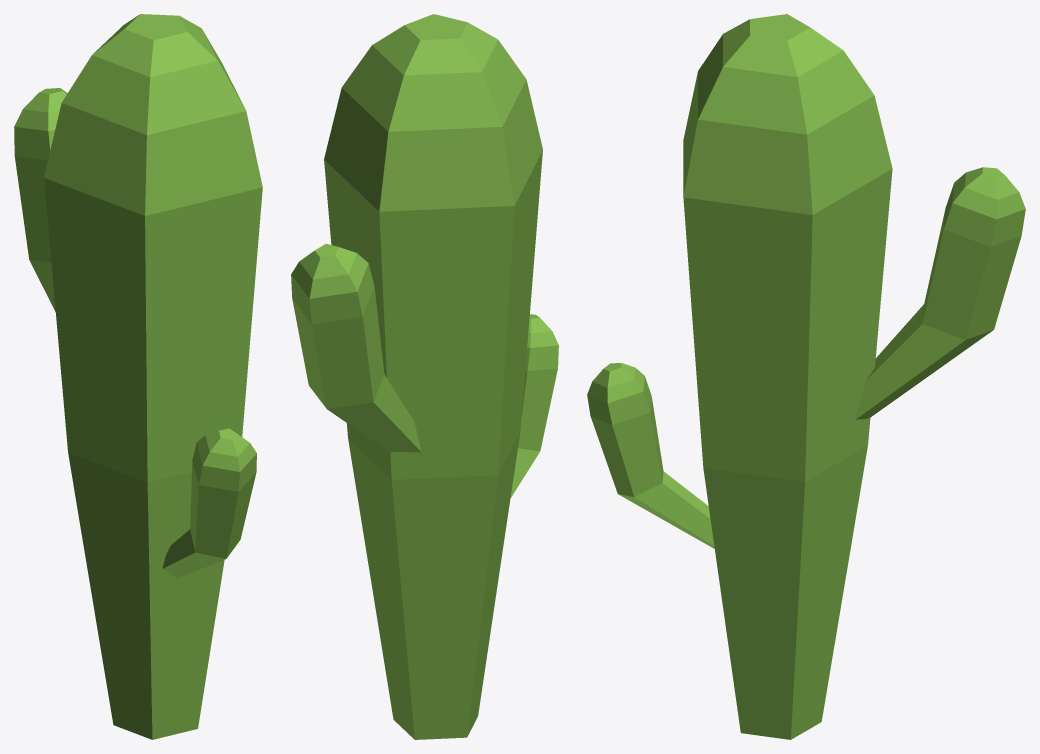
Rendered from Cactus_01.glb.
The picture shows the model from 3 angles, left to right: view 1: azimuth 30°, elevation 25°; view 2: azimuth 150°, elevation 25°; view 3: azimuth 270°, elevation 25°; orthographic projection.
Visible parts, largest first — view 1: Cactus_01; view 2: Cactus_01; view 3: Cactus_01.
Part boxes in pixels (x1,y1,x2,y2): Cactus_01: (14,14,262,739); Cactus_01: (291,14,558,739); Cactus_01: (587,14,1025,739).
Size of what is drawn, in the model's own units: 0.514 by 1.79 by 1.03.
Materials: 1 (1 with a texture image).
